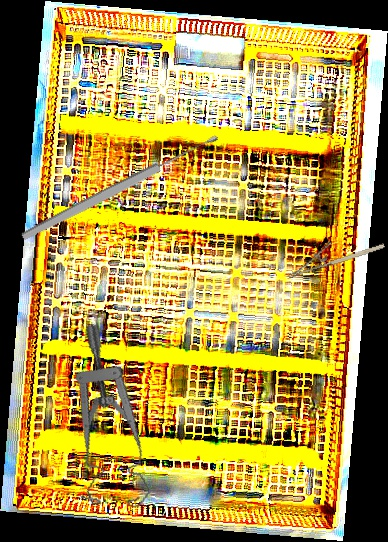Needle Holder: (280, 227, 386, 280)
Speculum: (42, 321, 188, 518)
Surgical Spoon: (19, 131, 221, 244)
